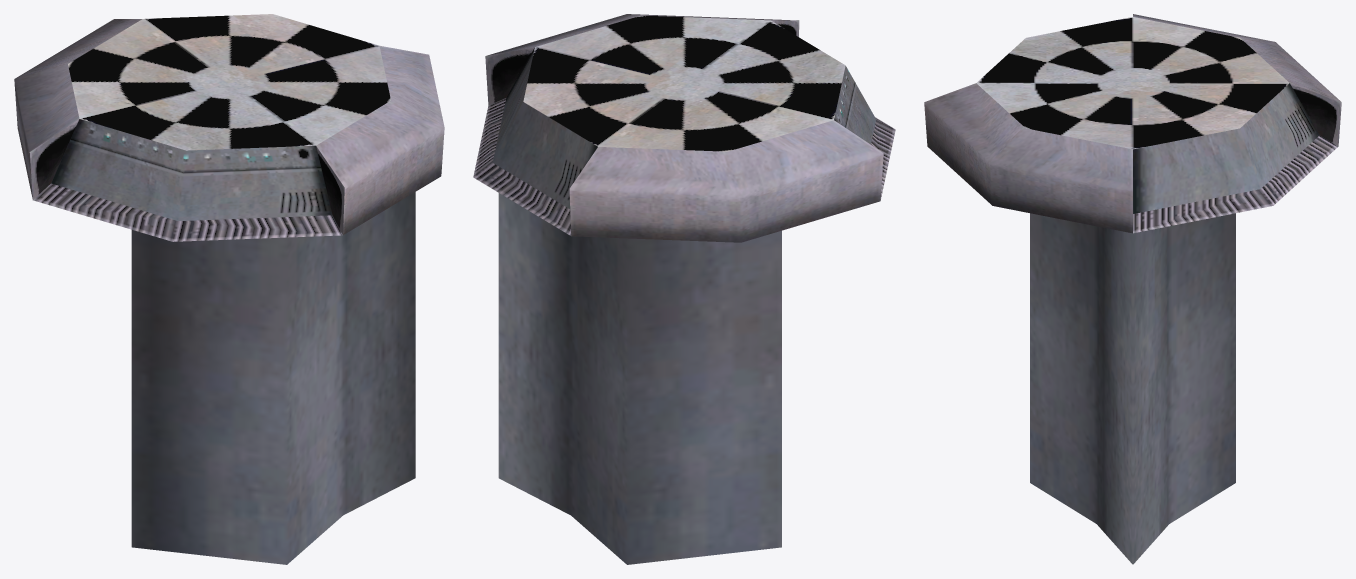
File: eqp_game_dejarik_gameboard_l2.fbx
3 renders of one model, left to right at view 1: azimuth 30°, elevation 25°; view 2: azimuth 150°, elevation 25°; view 3: azimuth 270°, elevation 25°, orthographic. The views are drawn at different scales.
Visible parts, largest first — view 1: mesh_node; view 2: mesh_node; view 3: mesh_node.
Boxes of the visible parts, x1,y1,x2,y2 form: mesh_node: (14, 14, 444, 564); mesh_node: (473, 14, 895, 564); mesh_node: (924, 14, 1341, 564).
Size of the model in its own units: 0.806 by 0.8509 by 0.806.
